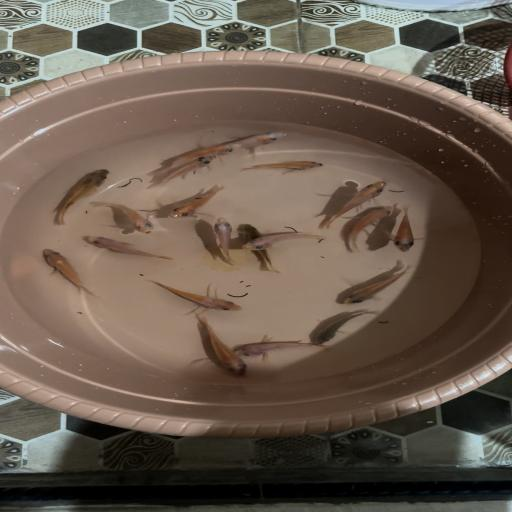nila: (179, 315, 257, 376), (142, 277, 254, 313), (52, 164, 113, 228), (320, 178, 388, 232), (36, 246, 102, 300), (338, 262, 414, 307), (148, 142, 242, 174), (86, 233, 183, 263), (234, 229, 328, 258), (87, 200, 162, 236), (153, 153, 220, 192), (345, 204, 397, 254), (312, 310, 382, 347), (236, 220, 283, 274), (382, 202, 428, 255), (165, 184, 225, 222), (233, 340, 334, 360), (208, 215, 243, 269), (216, 128, 302, 147), (236, 158, 329, 175)
